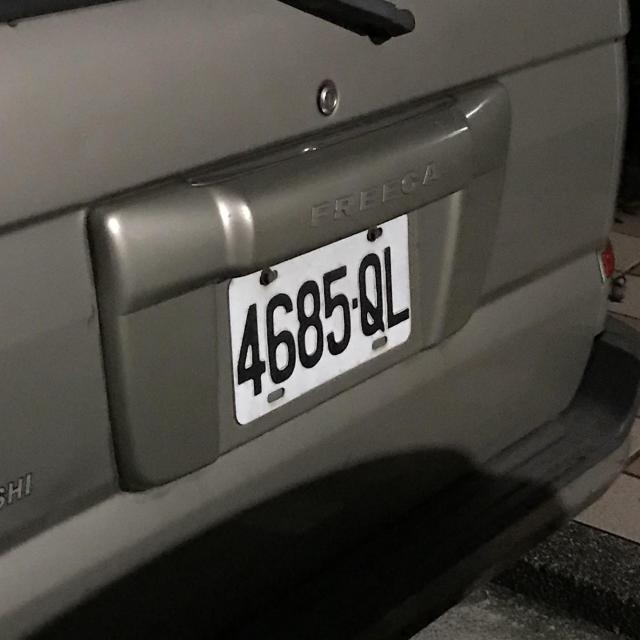W: (208, 208, 426, 433)
